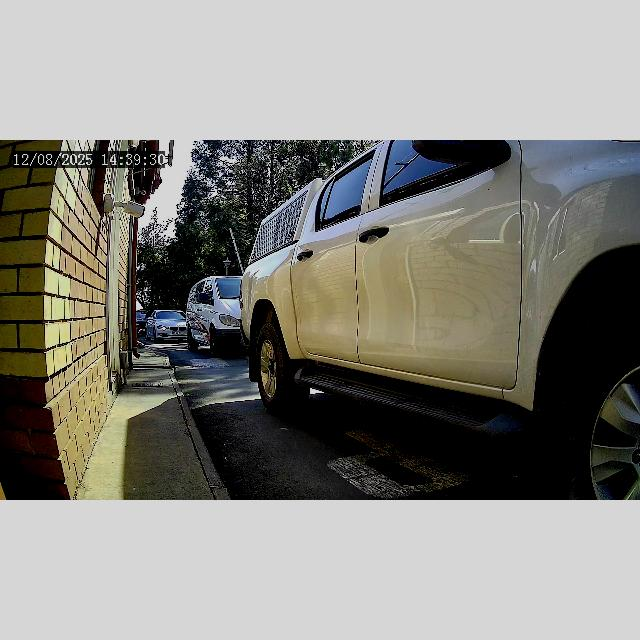car: (240, 140, 640, 498), (186, 274, 246, 358), (144, 305, 188, 343)
